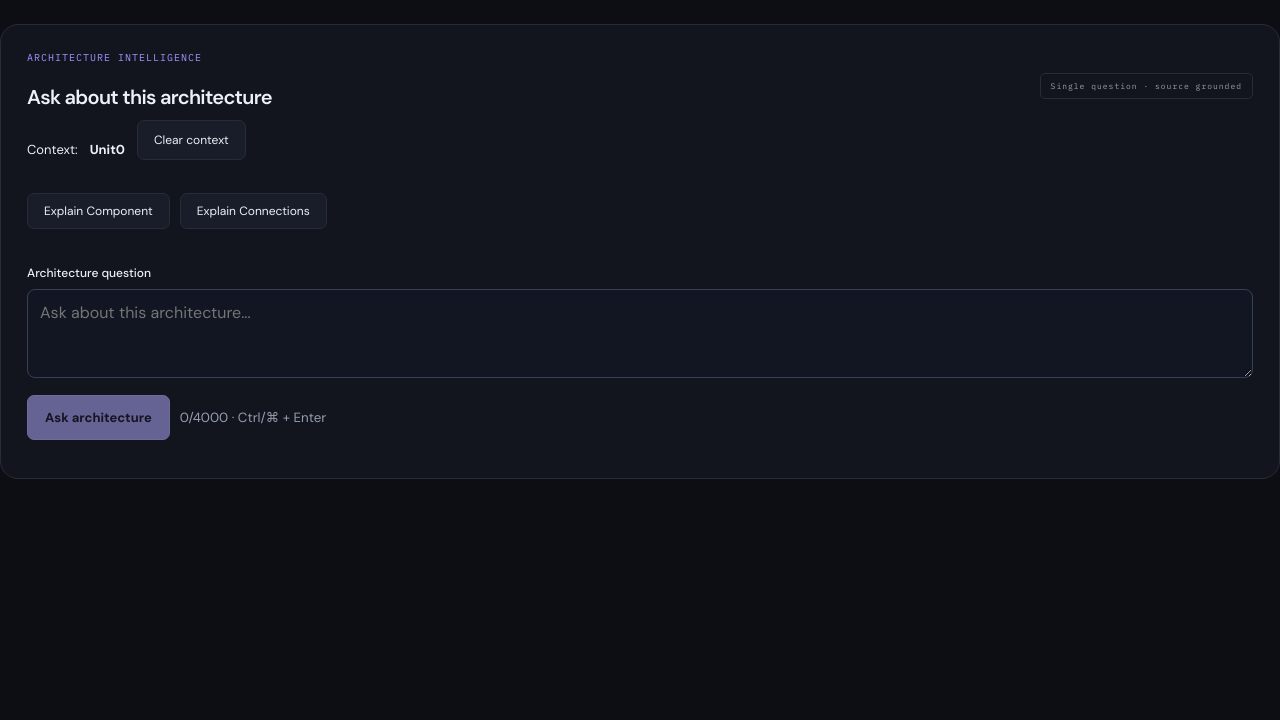
Test: Explain Component is accessible and sends the prescribed question
Click the button "Explain Component" at (98,211), box [27,193,170,229]
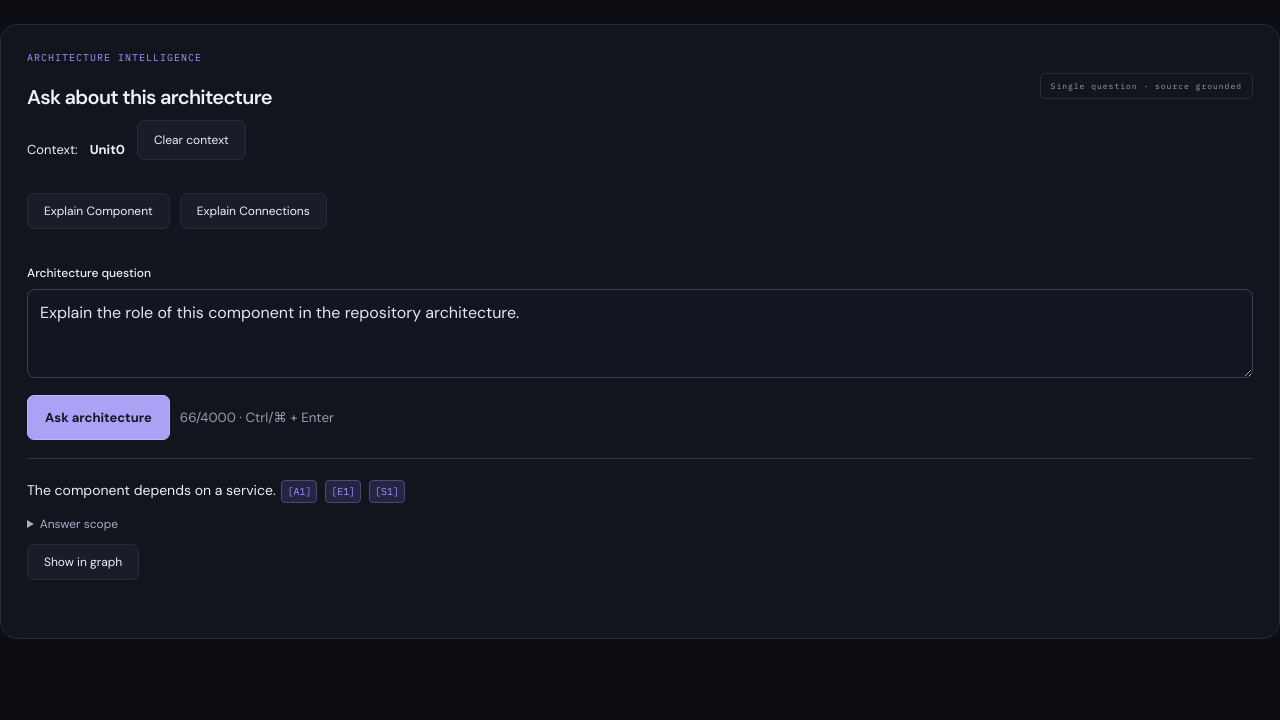
Expected: the button named "Go to citation A1" is shown, [281,480,317,503]
